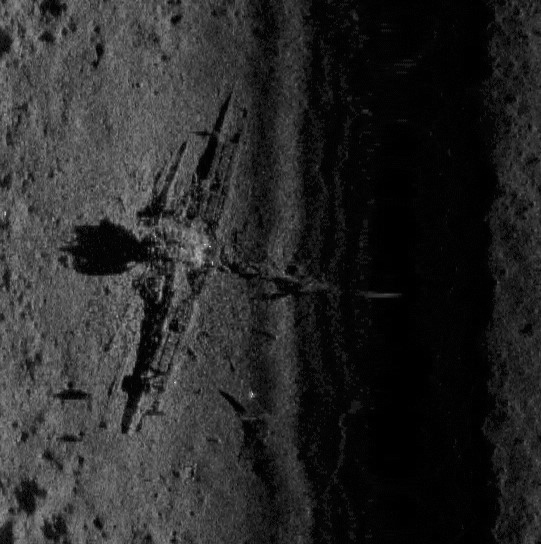ship: (123, 105, 246, 435)
